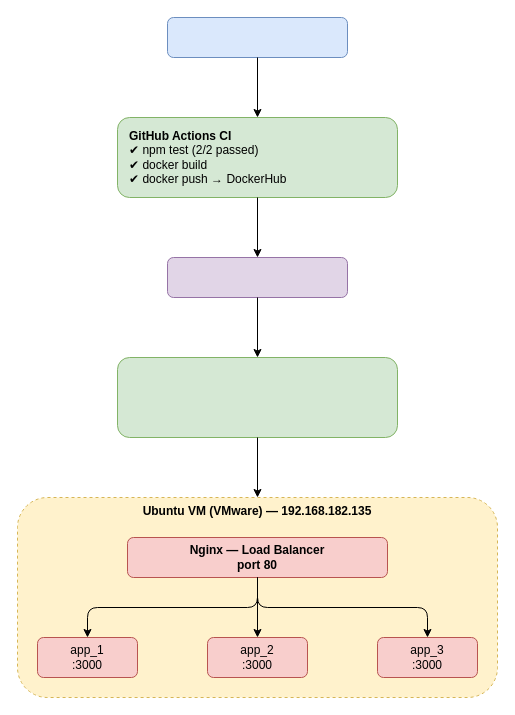
Some shapes in this 515 by 715 pixel diagram are drawn without their labels. Each missing label, with the centre of its shape:
"git push feature/*" belongs at point (257, 37).
"GitHub Actions CD ✔ self-hosted runner (VM) ✔ docker-compose pull ✔ scale app=3" belongs at point (257, 397).
"Pull Request → master" belongs at point (257, 277).
